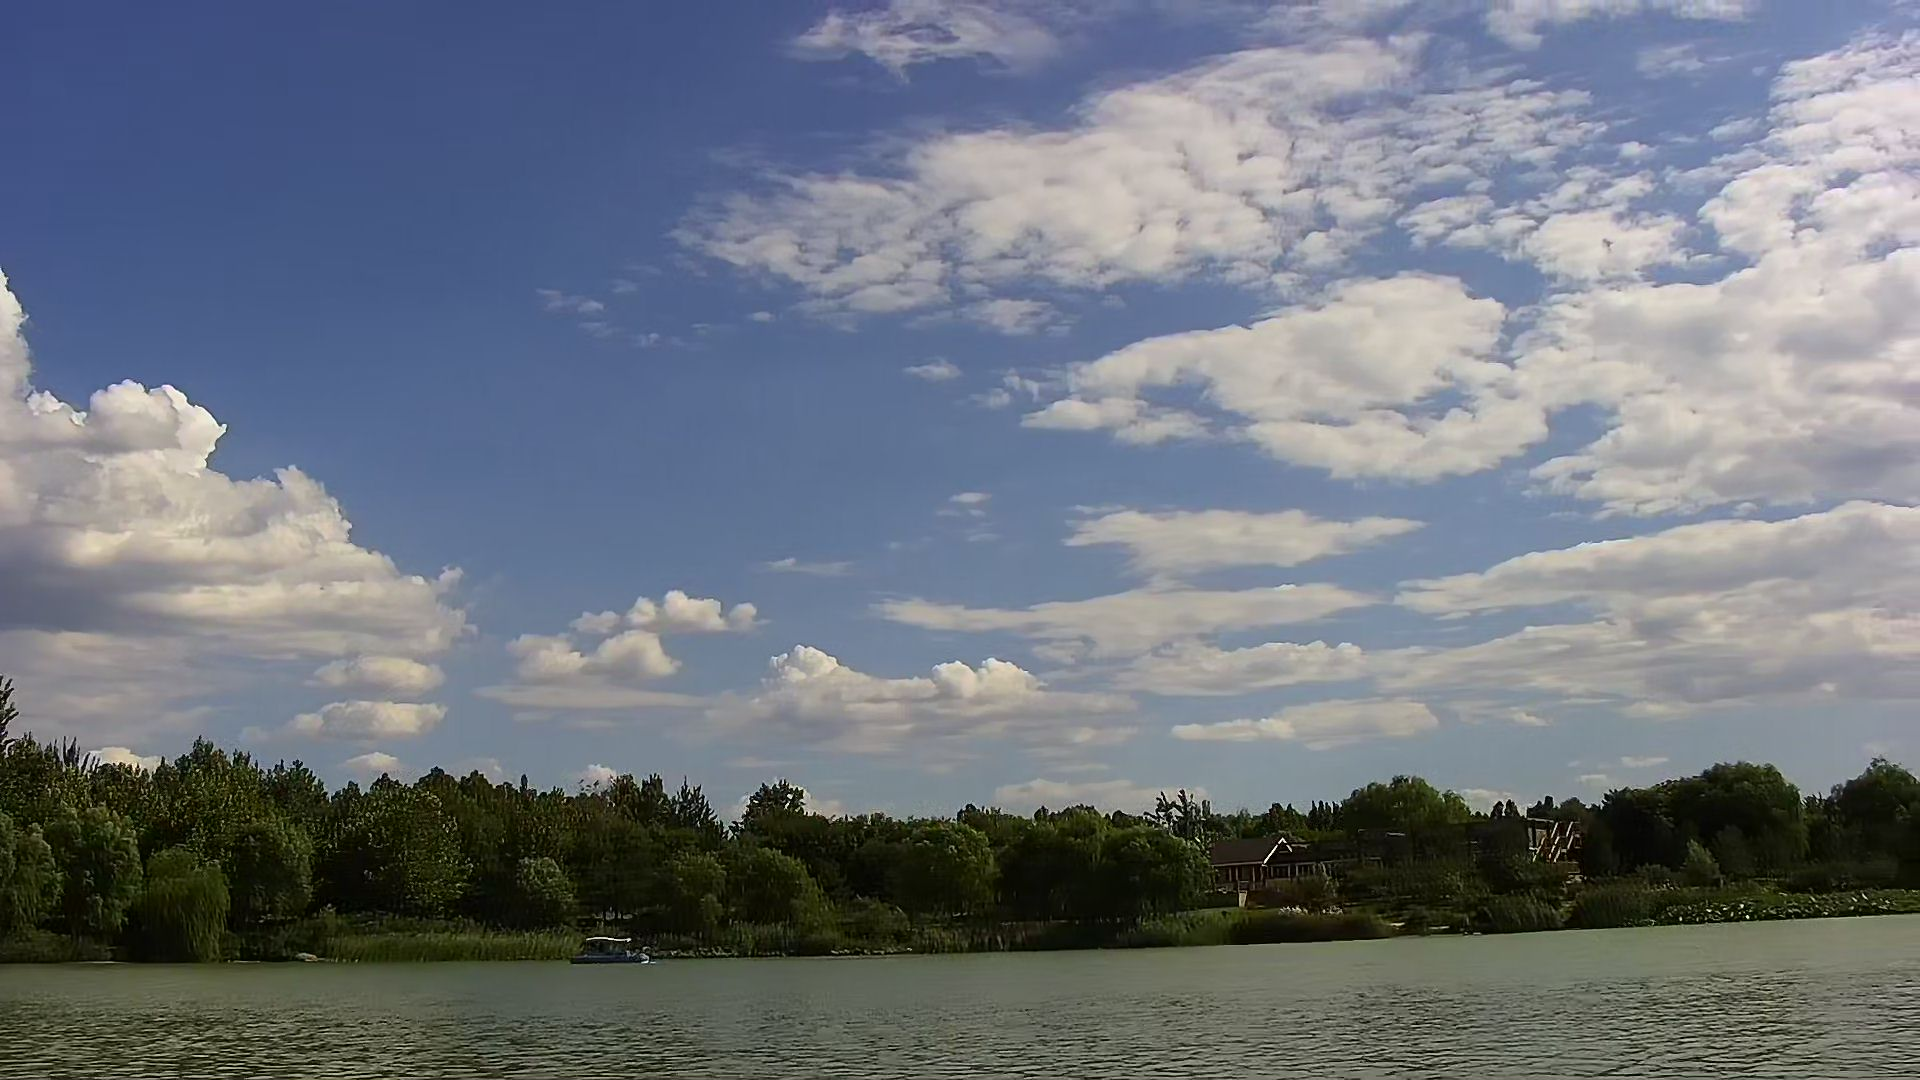boat: (568, 931, 655, 969)
